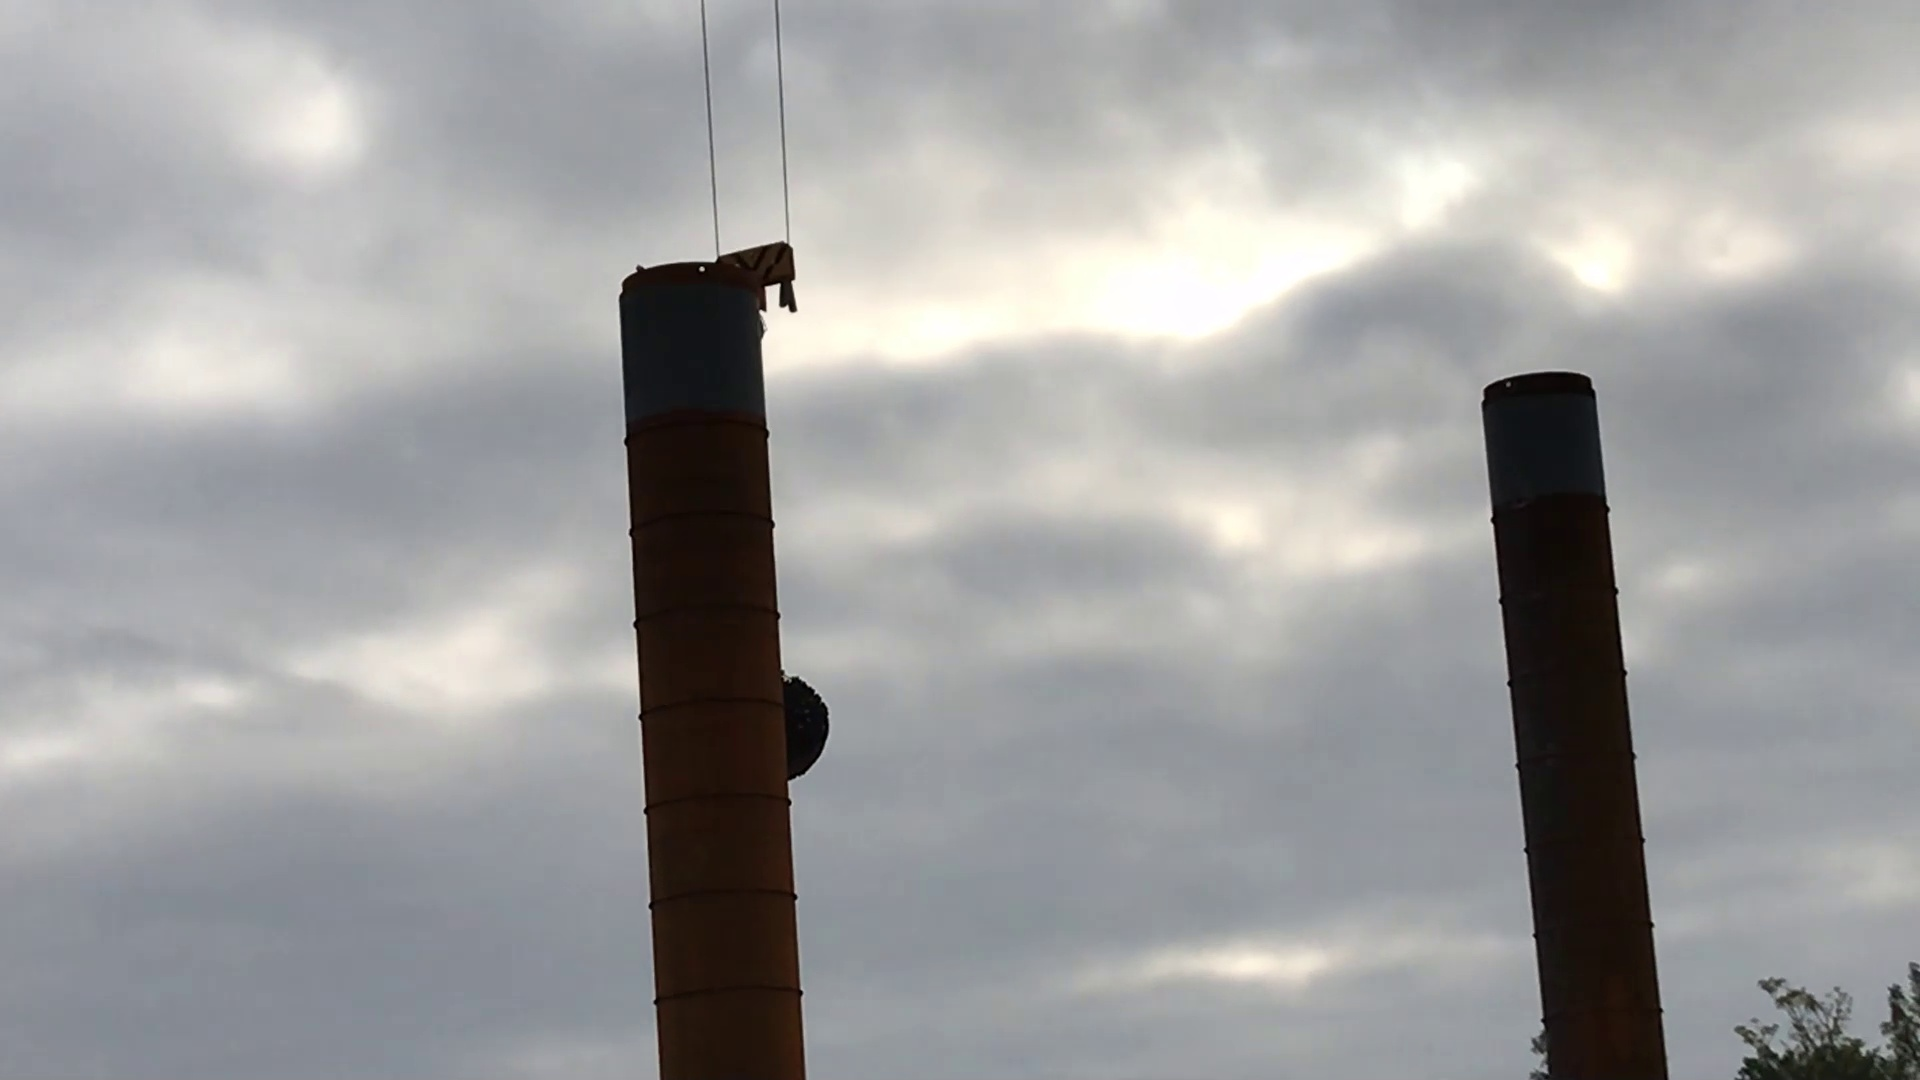hook: (713, 237, 796, 301)
